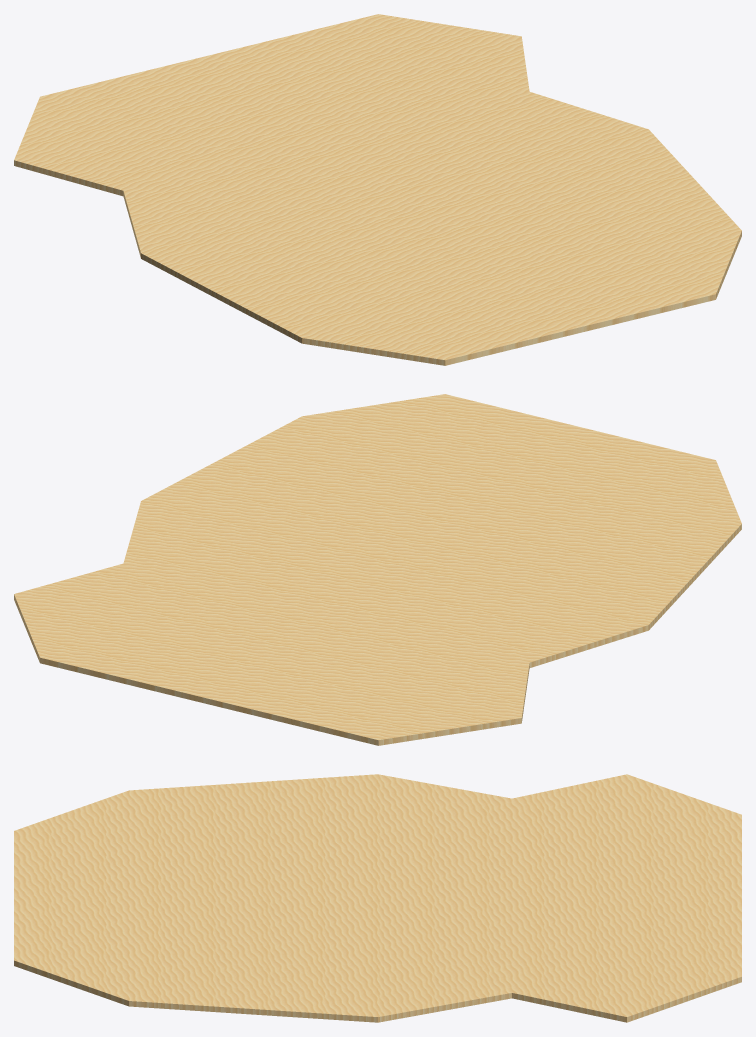
File: seabed-12-BErd5IyH.glb
3 views of the same model, one above another, from view 1: azimuth 30°, elevation 25°; view 2: azimuth 150°, elevation 25°; view 3: azimuth 270°, elevation 25° (orthographic). The views are drawn at different scales.
Visible parts, largest first — view 1: SW_SandShelf; view 2: SW_SandShelf; view 3: SW_SandShelf.
Part boxes in pixels (x1=…): SW_SandShelf: x1=14, y1=14, x2=741, y2=365; SW_SandShelf: x1=14, y1=394, x2=741, y2=745; SW_SandShelf: x1=14, y1=774, x2=741, y2=1022.
Size of what is drawn, in the model's own units: 30 by 0.32 by 38.
Materials: 1 (1 with a texture image).
